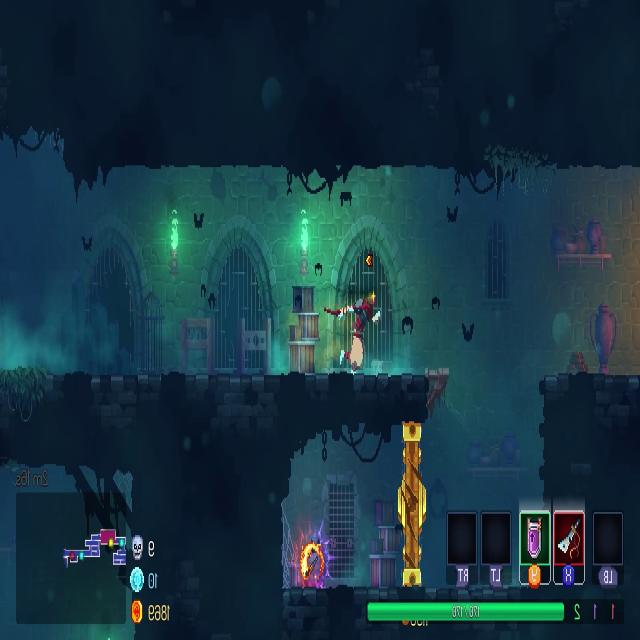agents: (338, 287, 381, 373)
